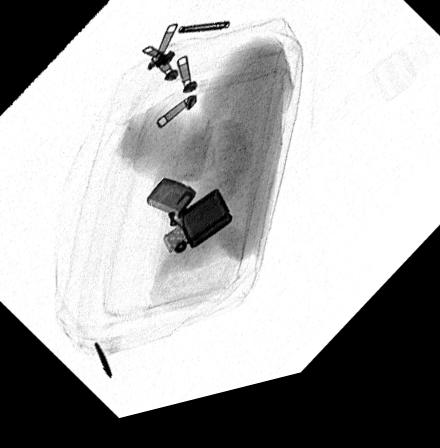Lighter: (144, 184, 232, 264)
